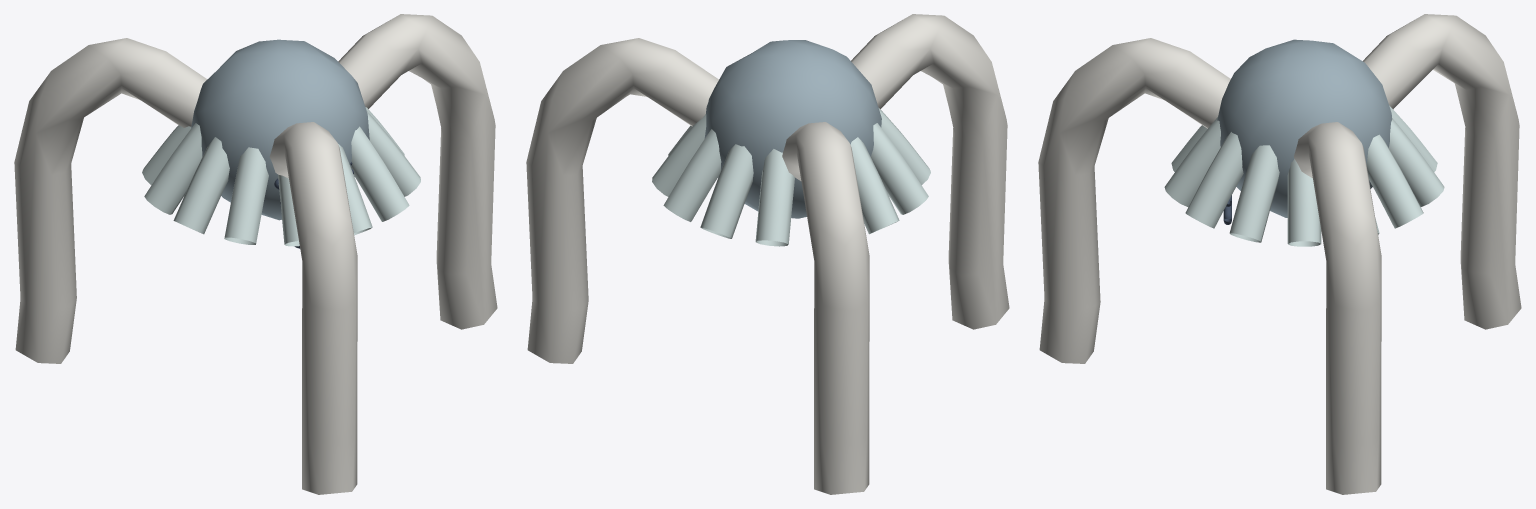
The model's file is bio_tripod_bell_08_far.glb.
3 views of the same model, side by side, from view 1: azimuth 30°, elevation 25°; view 2: azimuth 150°, elevation 25°; view 3: azimuth 270°, elevation 25° (orthographic).
Visible parts, largest first — view 1: Arched tripod.001, Arched tripod, Arched tripod.002, Hanging bell core, Flared rib.008, Flared rib.007, Flared rib.011, Flared rib.006, Flared rib.012, Flared rib.010, Flared rib.005, Flared rib.009; view 2: Arched tripod, Arched tripod.002, Arched tripod.001, Hanging bell core, Flared rib.003, Flared rib.004, Flared rib.002, Flared rib.007, Flared rib.006, Flared rib.001, Flared rib.008; view 3: Arched tripod.002, Arched tripod.001, Arched tripod, Hanging bell core, Flared rib.012, Flared rib.011, Flared rib.002, Flared rib, Flared rib.010, Flared rib.003, Flared rib.004.
Part boxes in pixels (<box>): Arched tripod.001: <box>14,38,207,363</box>; Arched tripod: <box>338,14,497,329</box>; Arched tripod.002: <box>269,122,357,494</box>; Hanging bell core: <box>191,39,369,220</box>; Flared rib.008: <box>224,147,268,244</box>; Flared rib.007: <box>173,137,229,234</box>; Flared rib.011: <box>351,126,409,221</box>; Flared rib.006: <box>144,123,202,214</box>; Flared rib.012: <box>366,111,420,196</box>; Flared rib.010: <box>338,144,372,235</box>; Flared rib.005: <box>142,125,191,185</box>; Flared rib.009: <box>278,174,299,246</box>; Arched tripod: <box>526,38,718,363</box>; Arched tripod.002: <box>851,14,1009,329</box>; Arched tripod.001: <box>782,122,869,494</box>; Hanging bell core: <box>704,40,881,218</box>; Flared rib.003: <box>700,144,753,238</box>; Flared rib.004: <box>755,149,794,246</box>; Flared rib.002: <box>663,129,721,221</box>; Flared rib.007: <box>871,123,928,214</box>; Flared rib.006: <box>850,137,899,234</box>; Flared rib.001: <box>652,114,706,196</box>; Flared rib.008: <box>878,108,930,184</box>; Arched tripod.002: <box>1038,38,1230,363</box>; Arched tripod.001: <box>1363,14,1521,329</box>; Arched tripod: <box>1294,122,1381,494</box>; Hanging bell core: <box>1217,39,1392,217</box>; Flared rib.012: <box>1229,145,1279,242</box>; Flared rib.011: <box>1185,132,1243,228</box>; Flared rib.002: <box>1366,134,1423,228</box>; Flared rib: <box>1287,159,1321,246</box>; Flared rib.010: <box>1164,117,1220,206</box>; Flared rib.003: <box>1389,118,1444,206</box>; Flared rib.004: <box>1389,105,1437,171</box>.
Bounding box in the file's own units: 2.5 × 2.01 × 2.58.
